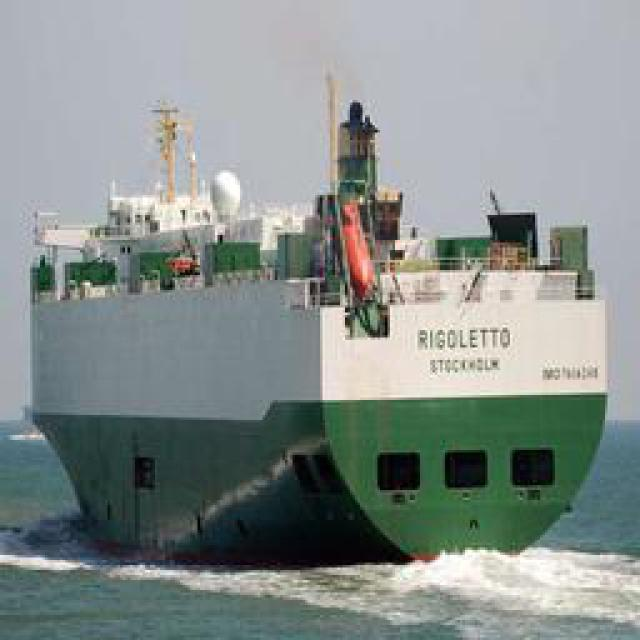Ship: (34, 52, 607, 575)
